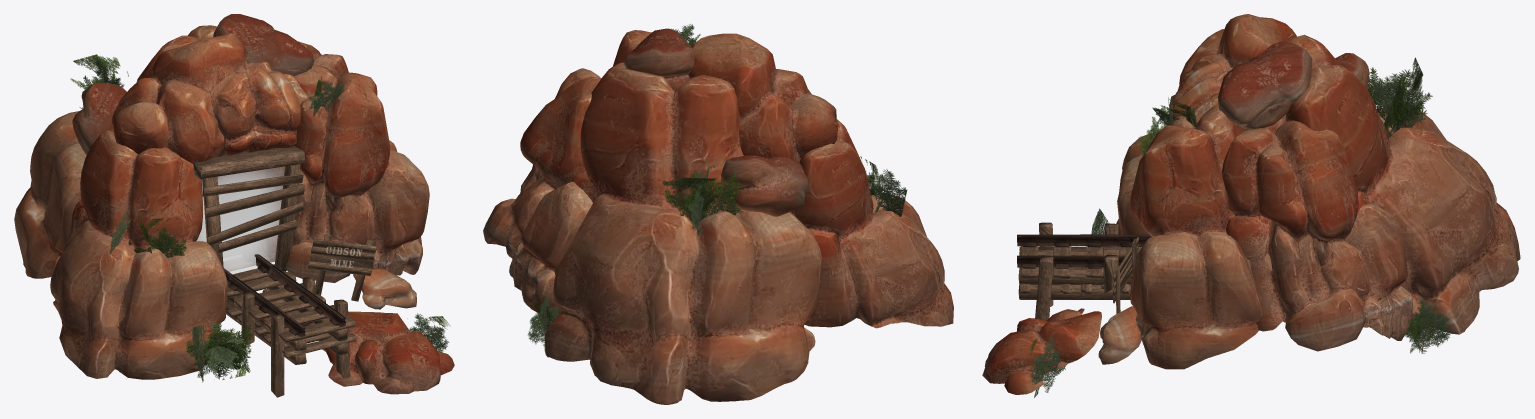
3 renders of one model, left to right at view 1: azimuth 30°, elevation 25°; view 2: azimuth 150°, elevation 25°; view 3: azimuth 270°, elevation 25°, orthographic. The views are drawn at different scales.
Size of the model in its own units: 1.89 by 1.41 by 2.18.
Materials: 5 (5 with a texture image).
